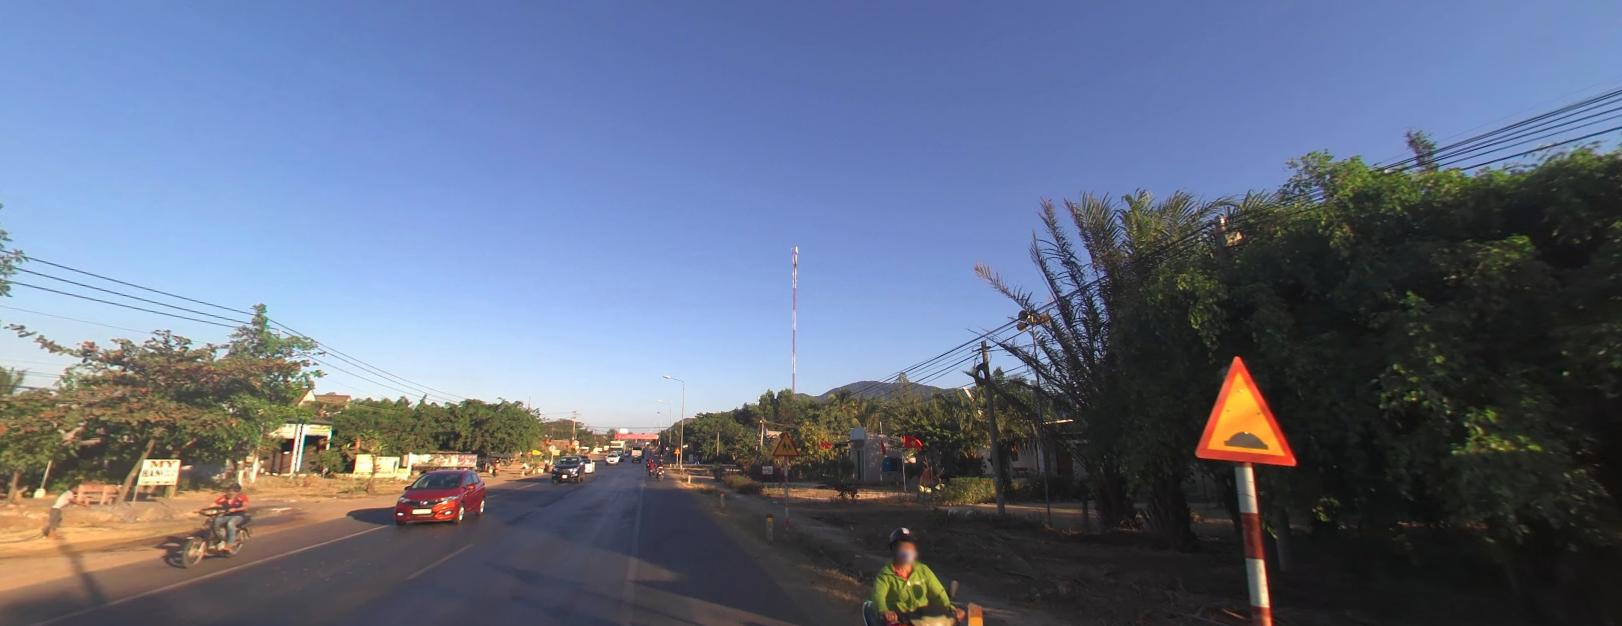Nguy hiem: (1190, 349, 1311, 473), (771, 429, 800, 456), (673, 446, 680, 452)
